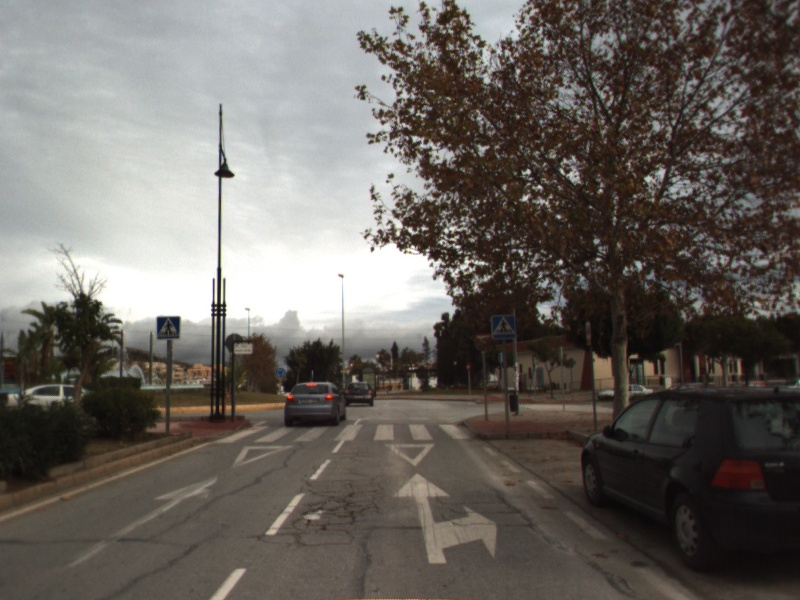STRAIGHT: (63, 472, 222, 569)
STRAIGHT_RIGHT: (389, 470, 500, 566)
